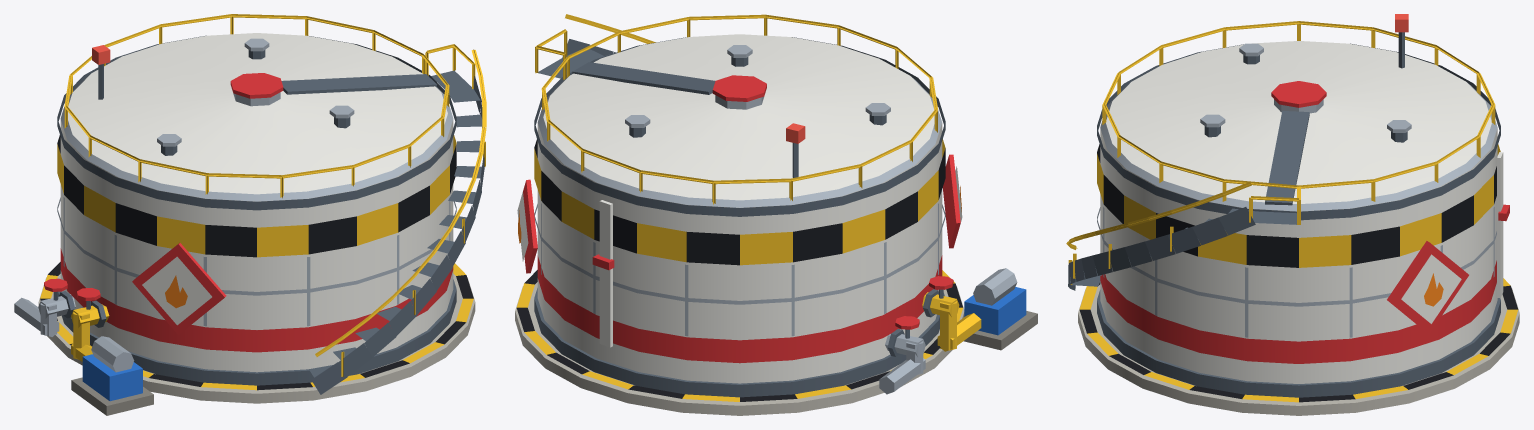
File: oil_tank.glb
3 views of the same model, side by side, from view 1: azimuth 30°, elevation 25°; view 2: azimuth 150°, elevation 25°; view 3: azimuth 270°, elevation 25° (orthographic). The views are drawn at different scales.
Visible parts, largest first — view 1: Body; view 2: Body; view 3: Body.
Part boxes in pixels (x1=…): Body: x1=14, y1=14, x2=486, y2=415; Body: x1=515, y1=14, x2=1037, y2=415; Body: x1=1066, y1=14, x2=1519, y2=415.
Bounding box in the file's own units: 1.77 × 1.01 × 1.64.
